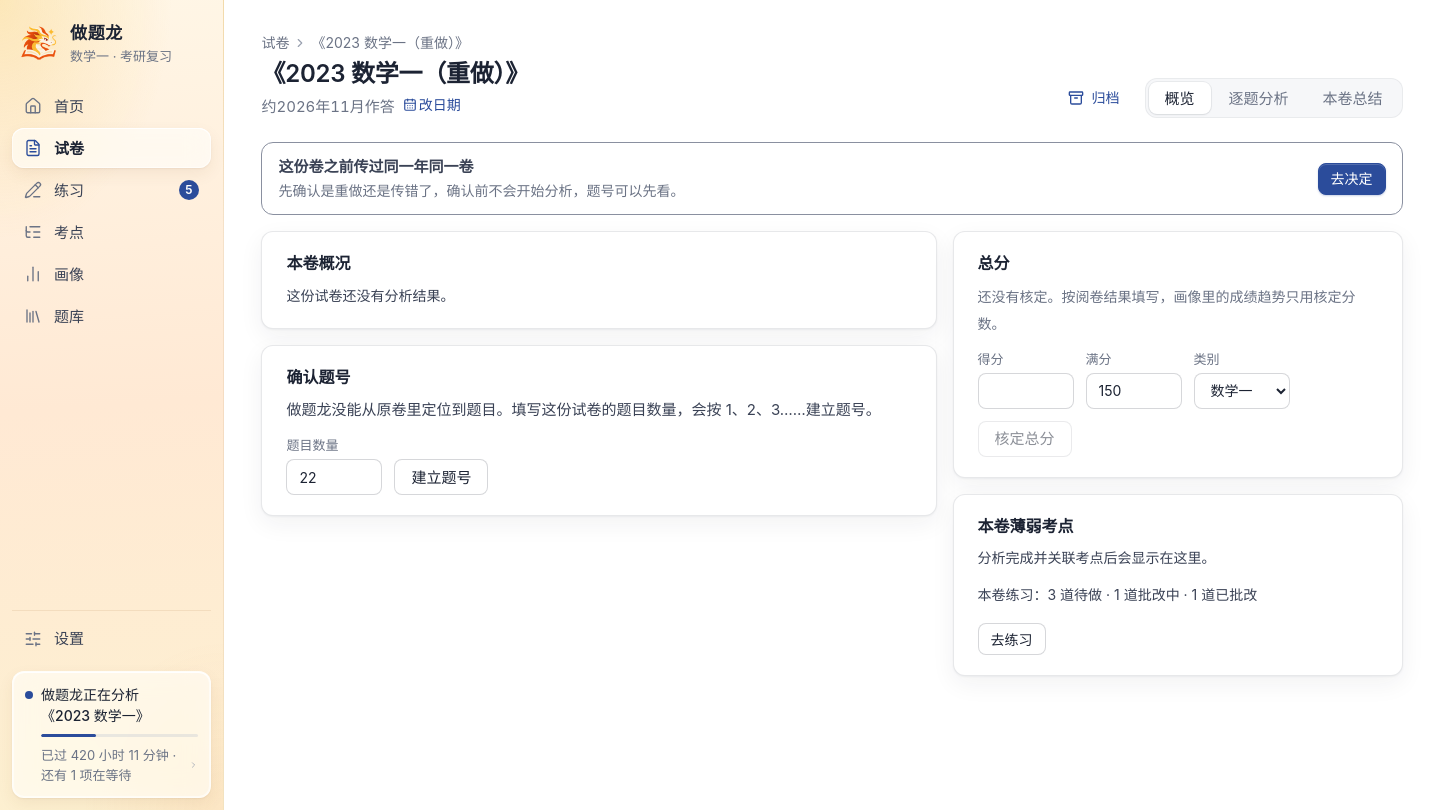
Test: edits one paper date from its detail page, prefilled with the current value
Later steps or results of the test are not shown.
Expected: the element "这份卷之前传过" is shown, left=261, top=142, right=1402, bottom=215
Expected: the text "约2026年11月作答 改日期" is shown, left=261, top=97, right=461, bottom=116
Click the button "改日期" at (432, 105), box left=403, top=94, right=461, bottom=116
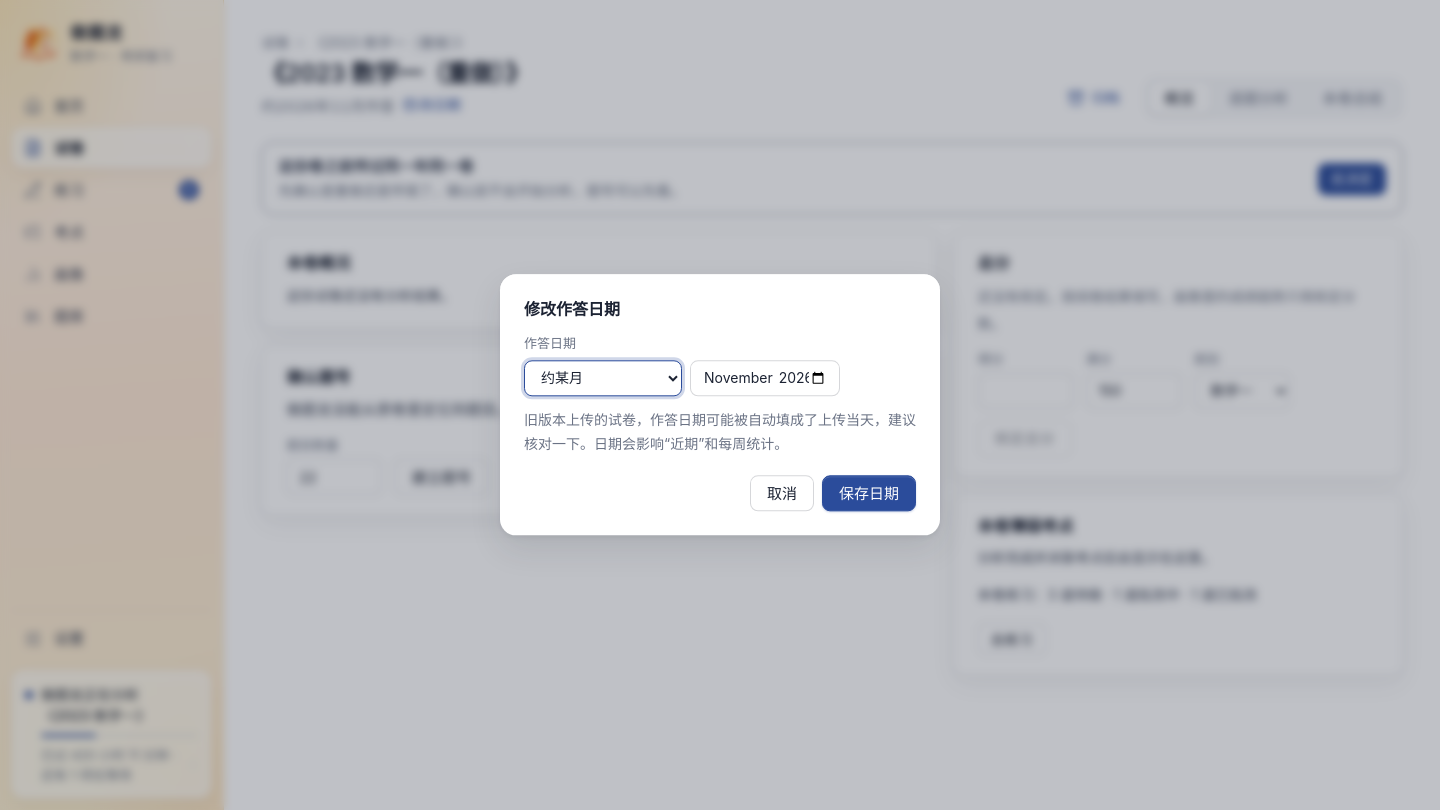
Expected: the dropdown shows "约某月", left=524, top=360, right=682, bottom=396
Expected: the field named "大约哪个月" holds "2026-11", left=690, top=360, right=840, bottom=396
